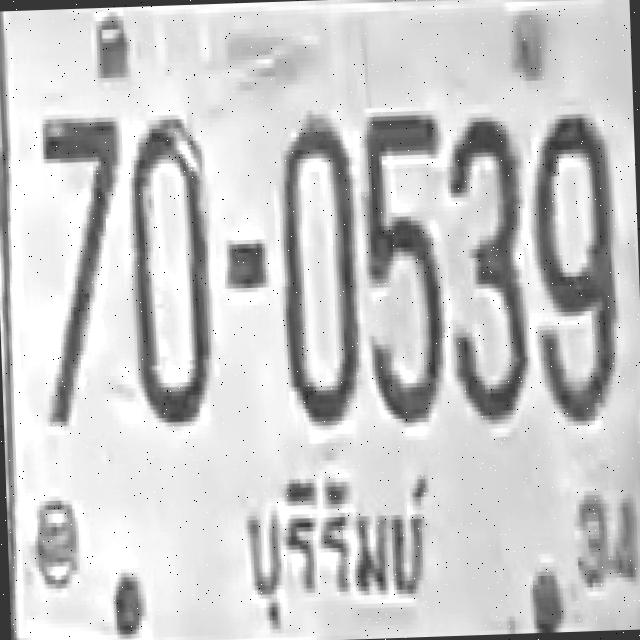0: (126, 116, 213, 424), (276, 118, 361, 426)
3: (444, 114, 528, 422)
5: (360, 110, 448, 423)
7: (36, 112, 126, 426)
9: (529, 108, 619, 422)
Buriram: (222, 451, 436, 638)
